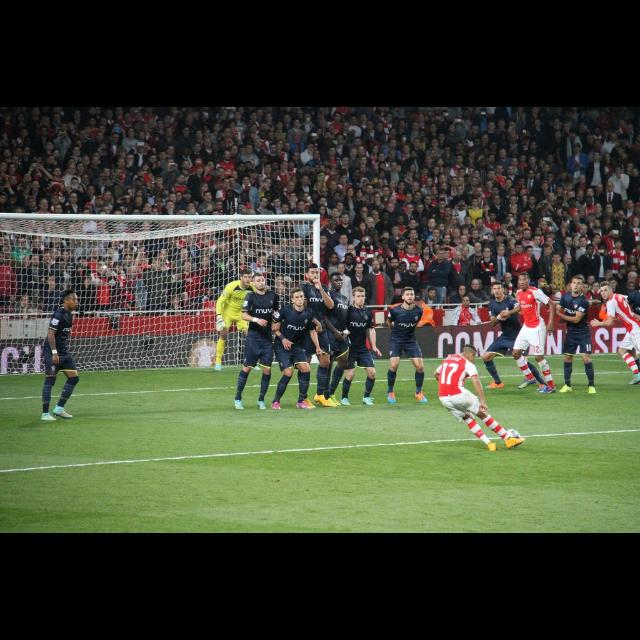Football: (506, 428, 518, 438)
